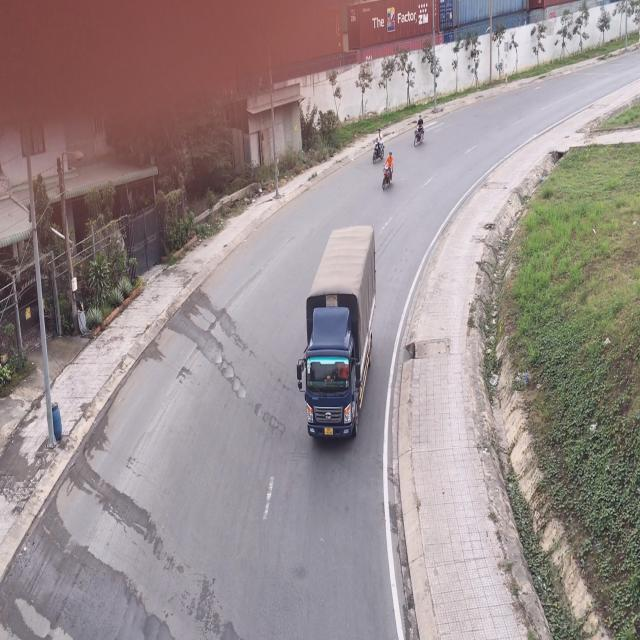motorbike: (380, 148, 396, 192), (414, 113, 426, 146), (374, 130, 385, 165)
truck: (298, 224, 377, 445)
